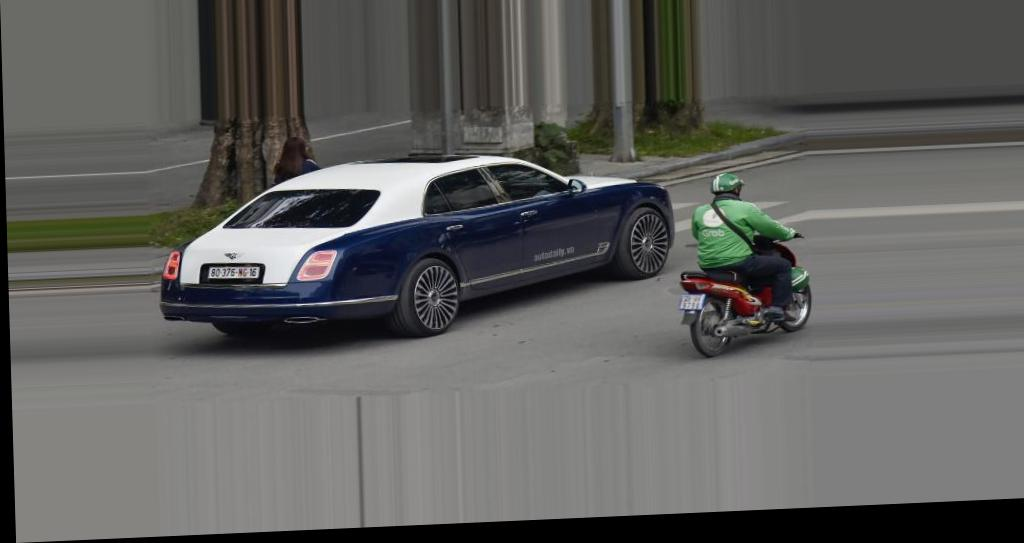License_Plate: (201, 263, 265, 282), (678, 292, 706, 312)
